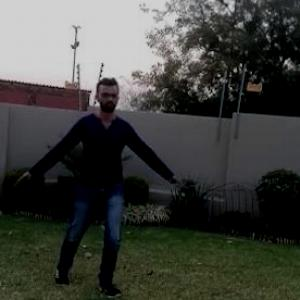land: (35, 92, 156, 260)
